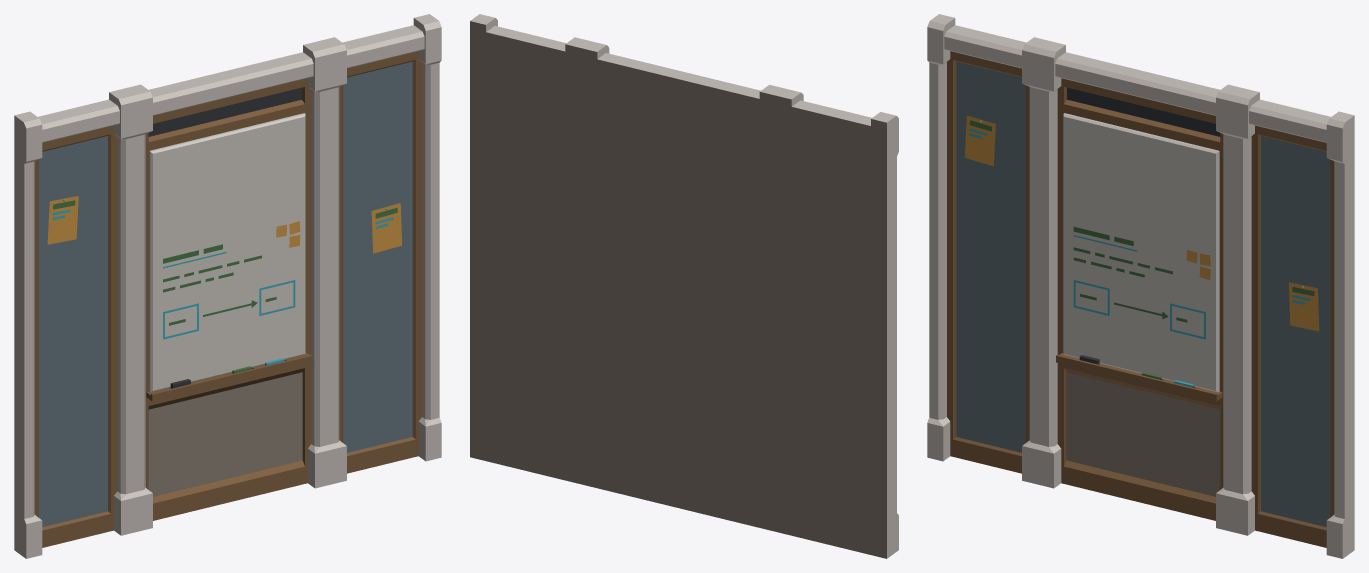
The model's file is writing-wall-whiteboard-a3163e.glb.
3 renders of one model, left to right at view 1: azimuth 30°, elevation 25°; view 2: azimuth 150°, elevation 25°; view 3: azimuth 330°, elevation 25°, orthographic.
Visible parts, largest first — view 1: writing-wall, joint-ends, paper-layer, board-writing; view 2: writing-wall, joint-ends; view 3: writing-wall, joint-ends, paper-layer, board-writing.
Boxes of the visible parts, x1,y1,x2,y2 form: writing-wall: (14, 14, 441, 558); joint-ends: (14, 115, 26, 558); paper-layer: (47, 196, 402, 253); board-writing: (163, 244, 295, 339); writing-wall: (470, 14, 895, 558); joint-ends: (887, 116, 898, 558); writing-wall: (927, 14, 1354, 558); joint-ends: (1342, 115, 1354, 558); paper-layer: (964, 115, 1319, 331); board-writing: (1073, 227, 1205, 339).
Size of the model in its own units: 3 by 3 by 0.15.
